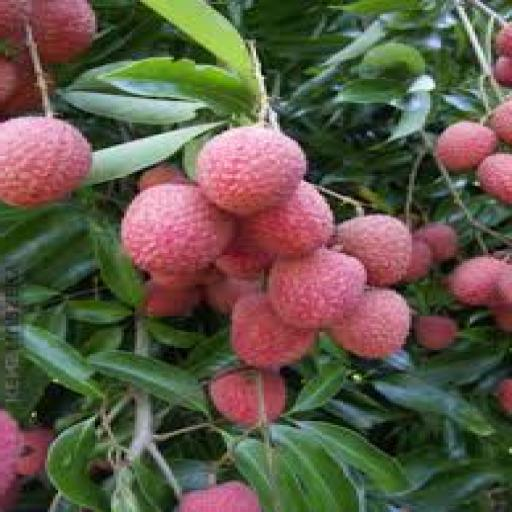lychee: (121, 184, 233, 272), (195, 127, 305, 215), (0, 117, 88, 207), (269, 250, 365, 328), (245, 182, 334, 256), (232, 293, 315, 367), (335, 214, 410, 286), (332, 289, 410, 357), (208, 368, 284, 426), (29, 0, 94, 63), (435, 121, 497, 171), (213, 230, 273, 278), (448, 256, 505, 306), (176, 481, 260, 511), (0, 62, 41, 116), (205, 277, 260, 314), (142, 281, 199, 316), (15, 427, 54, 476), (0, 410, 22, 494), (411, 224, 458, 262), (477, 155, 511, 205), (414, 315, 458, 349), (150, 267, 220, 288), (137, 165, 191, 191), (0, 0, 28, 45), (401, 240, 431, 282), (488, 99, 511, 144), (0, 58, 17, 112), (0, 479, 20, 511), (490, 303, 511, 332), (493, 24, 511, 57), (496, 265, 511, 304), (496, 380, 511, 415), (493, 58, 511, 86)
